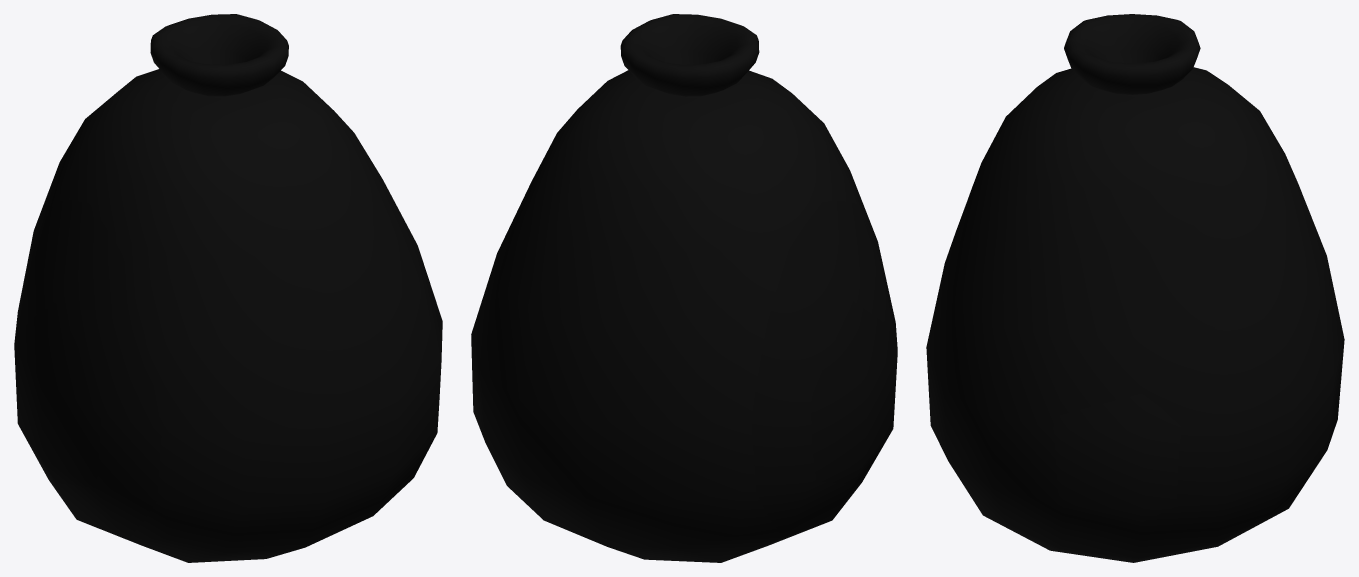
File: Trash_Bag.glb
The picture shows the model from 3 angles, left to right: view 1: azimuth 30°, elevation 25°; view 2: azimuth 150°, elevation 25°; view 3: azimuth 270°, elevation 25°; orthographic projection.
Visible parts, largest first — view 1: trash_bag; view 2: trash_bag; view 3: trash_bag.
Part boxes in pixels (x1=…): trash_bag: x1=14, y1=14, x2=442, y2=562; trash_bag: x1=471, y1=14, x2=897, y2=562; trash_bag: x1=926, y1=14, x2=1344, y2=562.
Size of the model in its own units: 0.545 by 0.7 by 0.5335.
1 material, 1 textured.
